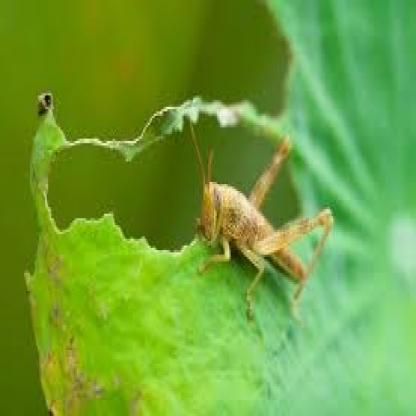grasshopper: (186, 122, 334, 316)
